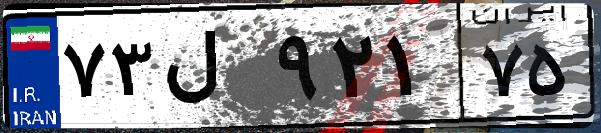1: (385, 28, 445, 110)
2: (330, 28, 385, 110)
3: (110, 28, 158, 98)
5: (525, 38, 570, 115)
7: (57, 26, 110, 100), (475, 38, 525, 113)
9: (270, 28, 330, 110)
ل: (158, 20, 270, 120)
